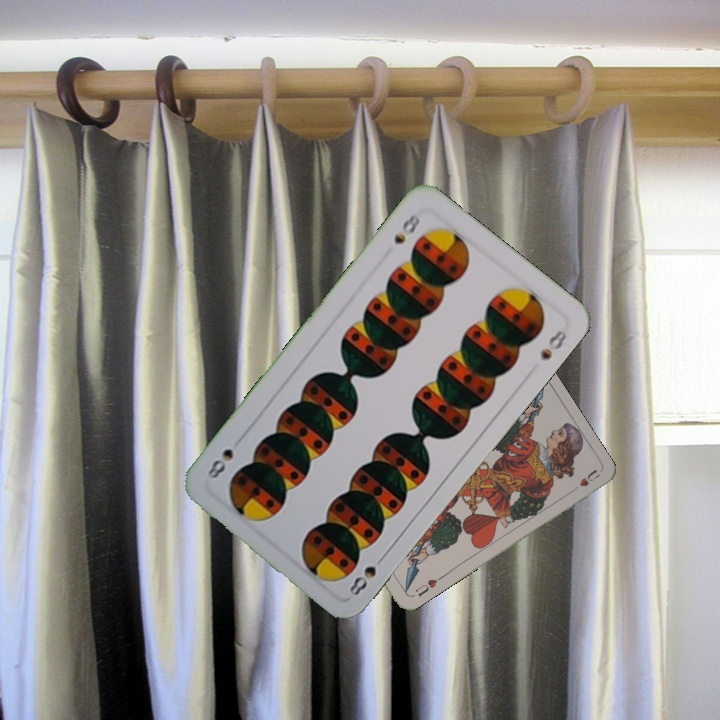HU: (411, 575, 440, 599)
S8: (389, 209, 423, 247), (345, 561, 379, 599)
